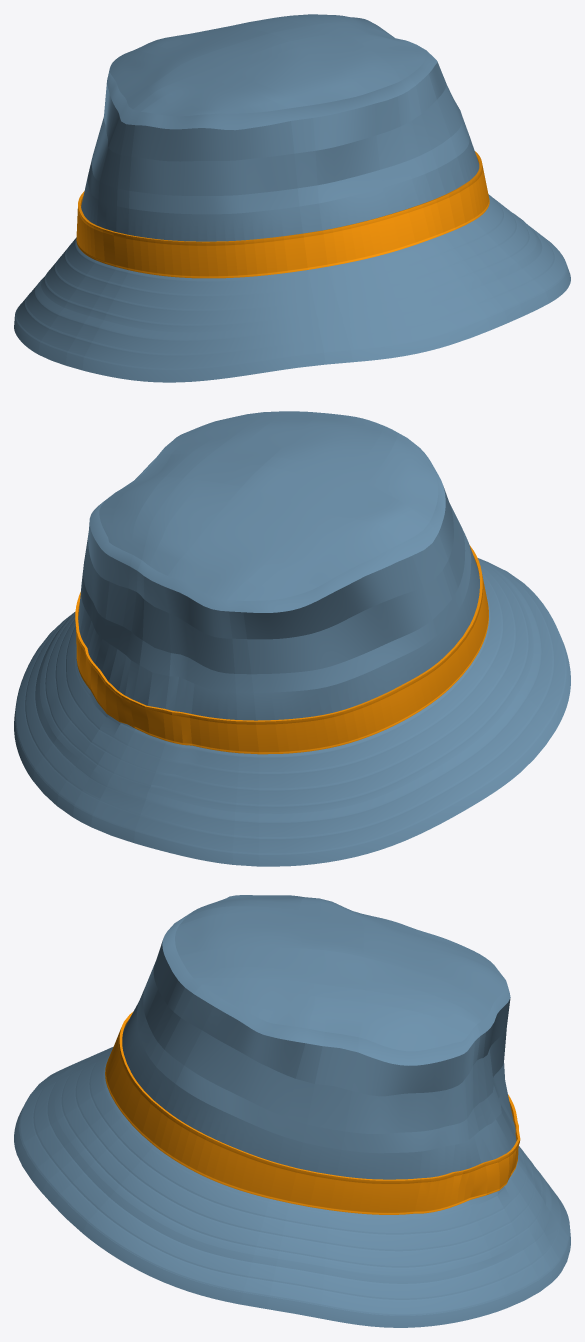
Rendered from Fisherman_Hat_Girl.fbx.
3 renders of one model, top to bottom at view 1: azimuth 30°, elevation 25°; view 2: azimuth 150°, elevation 25°; view 3: azimuth 270°, elevation 25°, orthographic.
Visible parts, largest first — view 1: fisherman_hat; view 2: fisherman_hat; view 3: fisherman_hat.
Part boxes in pixels (<box>): fisherman_hat: <box>14,14,570,382</box>; fisherman_hat: <box>14,411,570,866</box>; fisherman_hat: <box>14,895,570,1327</box>.
Bounding box in the file's own units: 81.08 × 47.95 × 79.35.
